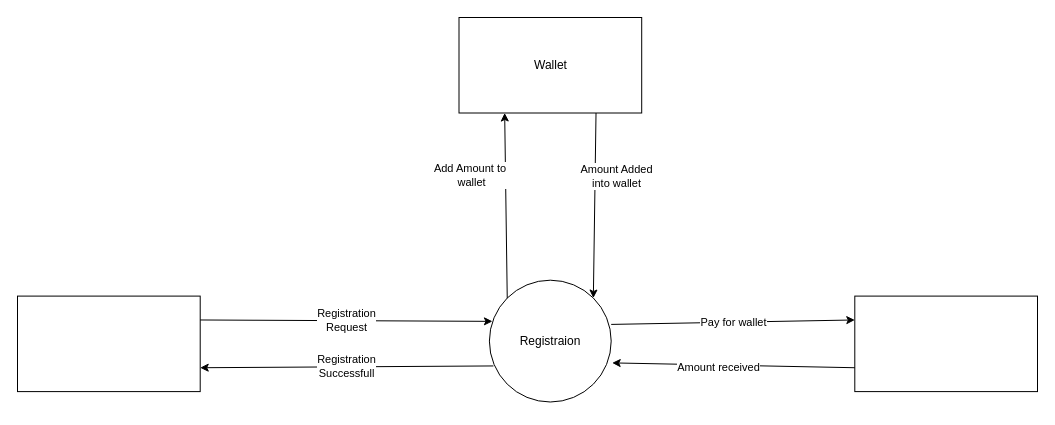
Some shapes in this 1055 by 425 pixel diagram are drawn without their labels. The shapes that lost their labels are listed below. From the top down, each one's centre as x and y in pixels, then its label:
At pixel 108 343: "Client".
At pixel 946 343: "Payment Gateway".
